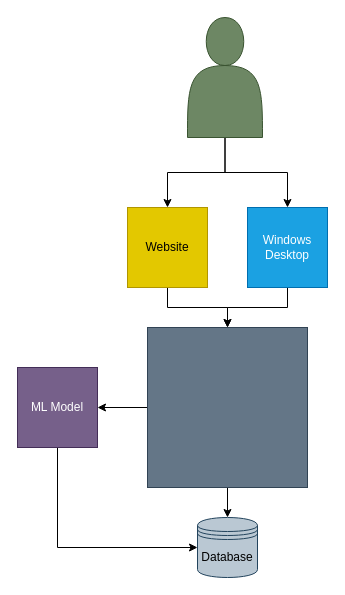
The diagram is 345 pixels wide and 595 high, and some of its shapes have lost their labels. Each missing label, with the centre of its shape:
"API" goes at point 227,407.
"User" goes at point 224,77.
